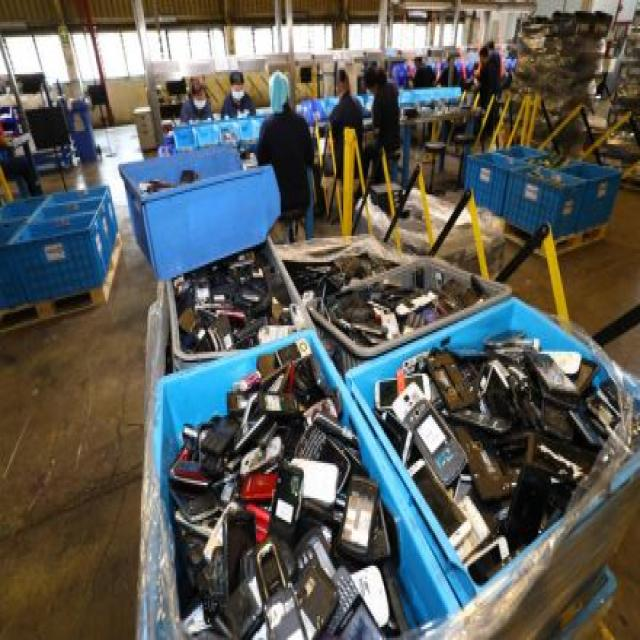hazard: (166, 203, 640, 640)
